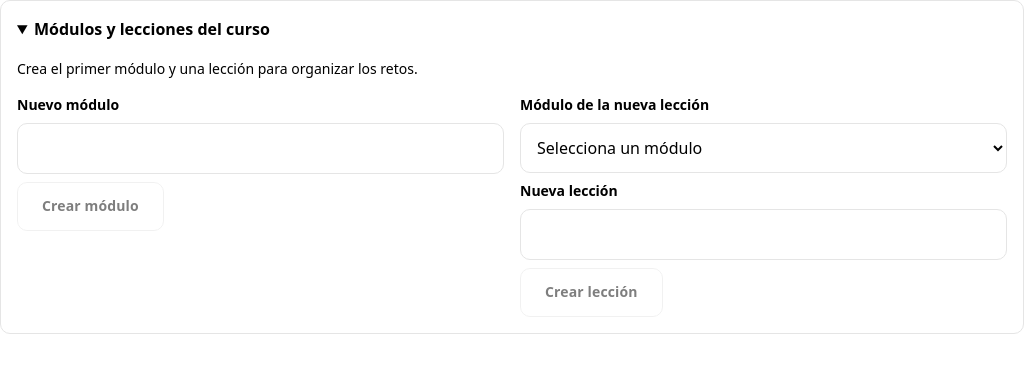
Test: Course structure creation › keeps input and announces a failed save
Expected: the text "Crea el primer módulo" is shown, [17,59,418,78]
In the field labelled "Nuevo módulo": (260, 148) [17,123,504,174], type "Mi módulo"
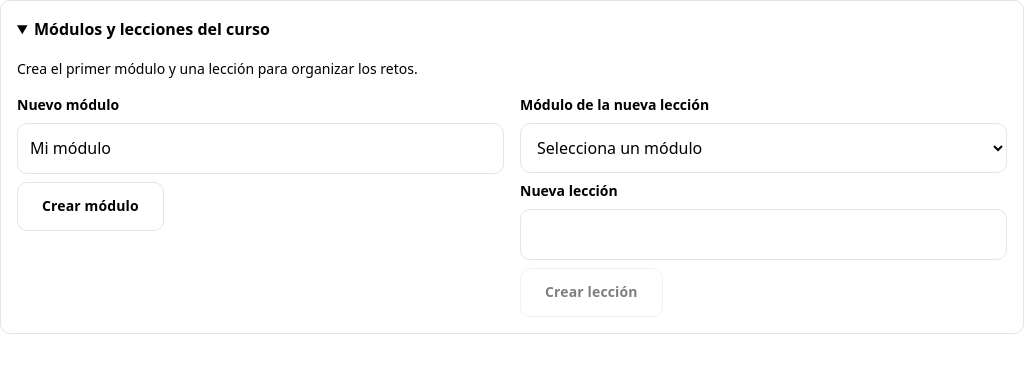
Click the button "Crear módulo": (90, 206) [17,182,164,231]
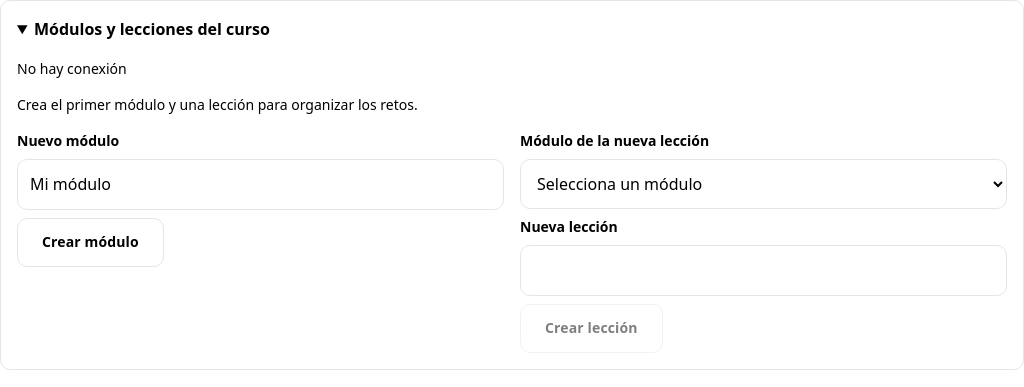
Result: the message reads "No hay conexión" at [17,59,127,78]
